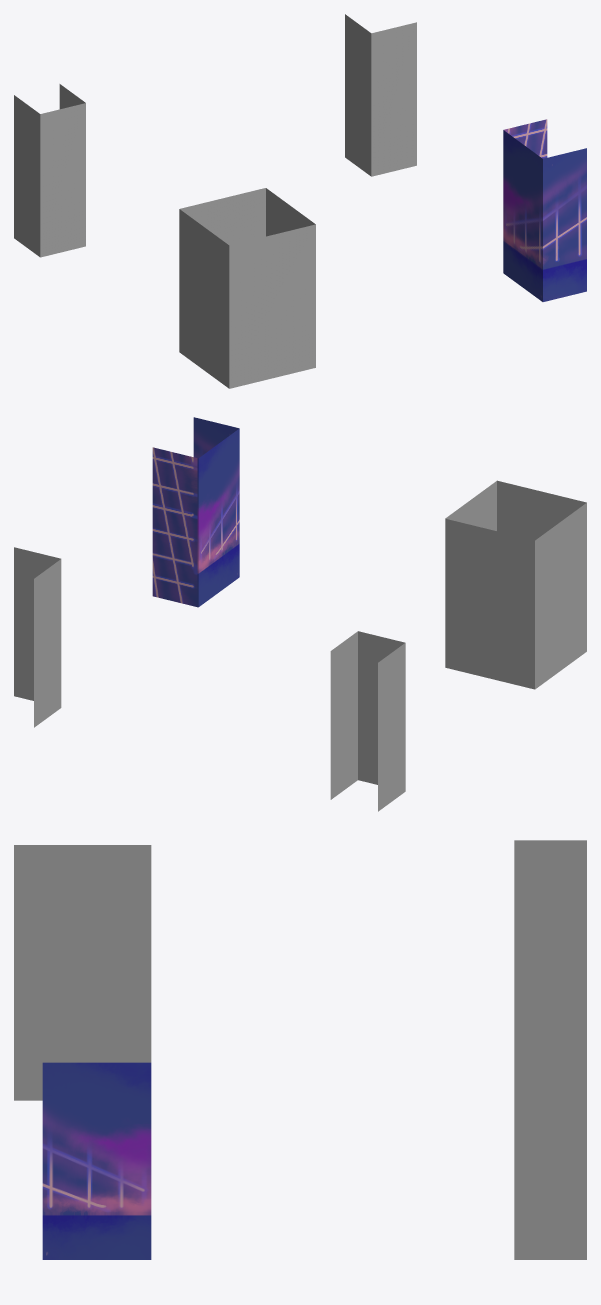
Rendered from MOD_GDD Columns.fbx.
3 views of the same model, one above another, from view 1: azimuth 30°, elevation 25°; view 2: azimuth 150°, elevation 25°; view 3: azimuth 270°, elevation 25° (orthographic). The views are drawn at different scales.
Parts seen in each view (by area): view 1: Pillar1, Pillar3, Pillar2, Pillar; view 2: Pillar1, Pillar3, Pillar2, Pillar; view 3: Pillar1, Pillar3, Pillar2, Pillar.
Boxes of the visible parts, bbox=[...] form: Pillar1: bbox=[179, 188, 315, 388]; Pillar3: bbox=[503, 119, 586, 301]; Pillar2: bbox=[14, 84, 85, 257]; Pillar: bbox=[345, 14, 416, 176]; Pillar1: bbox=[445, 480, 586, 689]; Pillar3: bbox=[152, 417, 239, 607]; Pillar2: bbox=[330, 631, 405, 811]; Pillar: bbox=[14, 547, 61, 727]; Pillar1: bbox=[14, 845, 151, 1100]; Pillar3: bbox=[42, 1062, 151, 1259]; Pillar2: bbox=[514, 840, 586, 1062]; Pillar: bbox=[514, 1062, 586, 1259].
Size of the model in its own units: 825 by 300 by 789.
